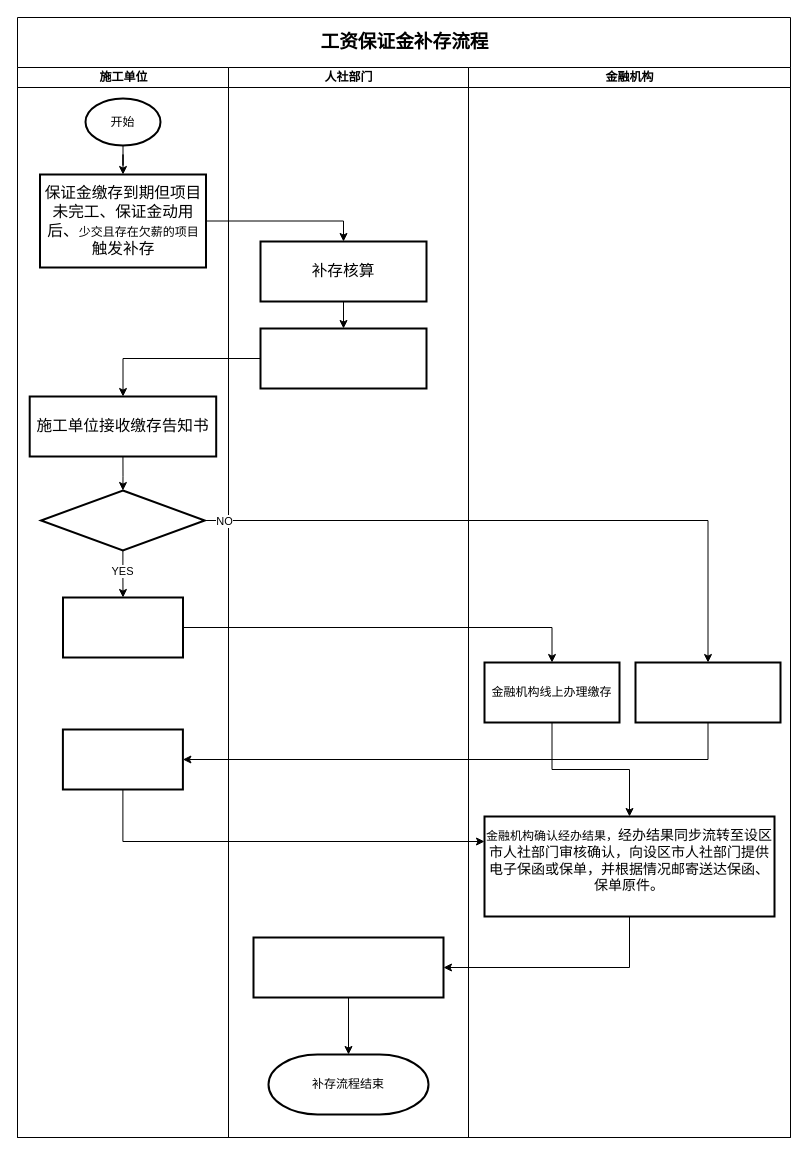
The diagram is 808 pixels wide and 1155 high, and some of its shapes have lost their labels. Each missing label, with the centre of its shape:
"企业到金融机构办理缴存" belongs at point (707, 692).
"出具缴存告知书" belongs at point (343, 358).
"施工单位手动填报经办结果" belongs at point (122, 759).
"是否线上办理？" belongs at point (122, 520).
"线上选择金融机构" belongs at point (123, 627).
"设区市人社部门审核备案结果，更新项目缴存状态" belongs at point (348, 967).
